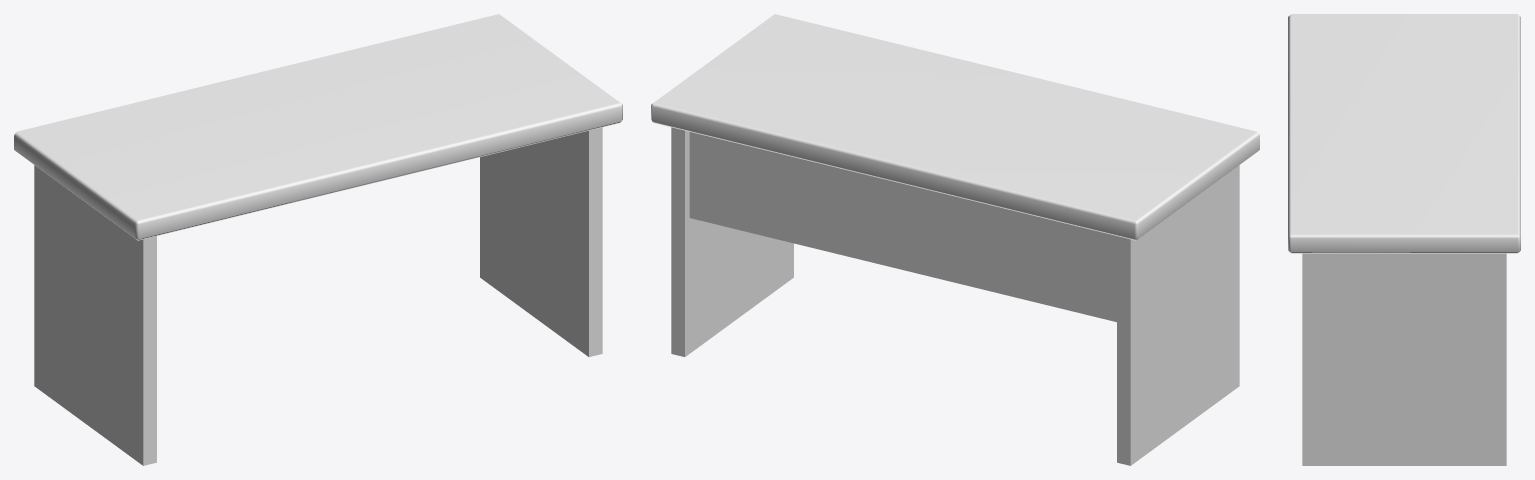
The model's file is work_table_019.fbx.
3 views of the same model, side by side, from view 1: azimuth 30°, elevation 25°; view 2: azimuth 150°, elevation 25°; view 3: azimuth 270°, elevation 25° (orthographic). The views are drawn at different scales.
Parts seen in each view (by area): view 1: work_table_019; view 2: work_table_019; view 3: work_table_019.
Part boxes in pixels (box(x1,y1,x2,y2)): work_table_019: box(14, 14, 622, 465); work_table_019: box(651, 14, 1259, 465); work_table_019: box(1288, 14, 1520, 465).
Size of the model in its own units: 185 by 81.5 by 91.5.
